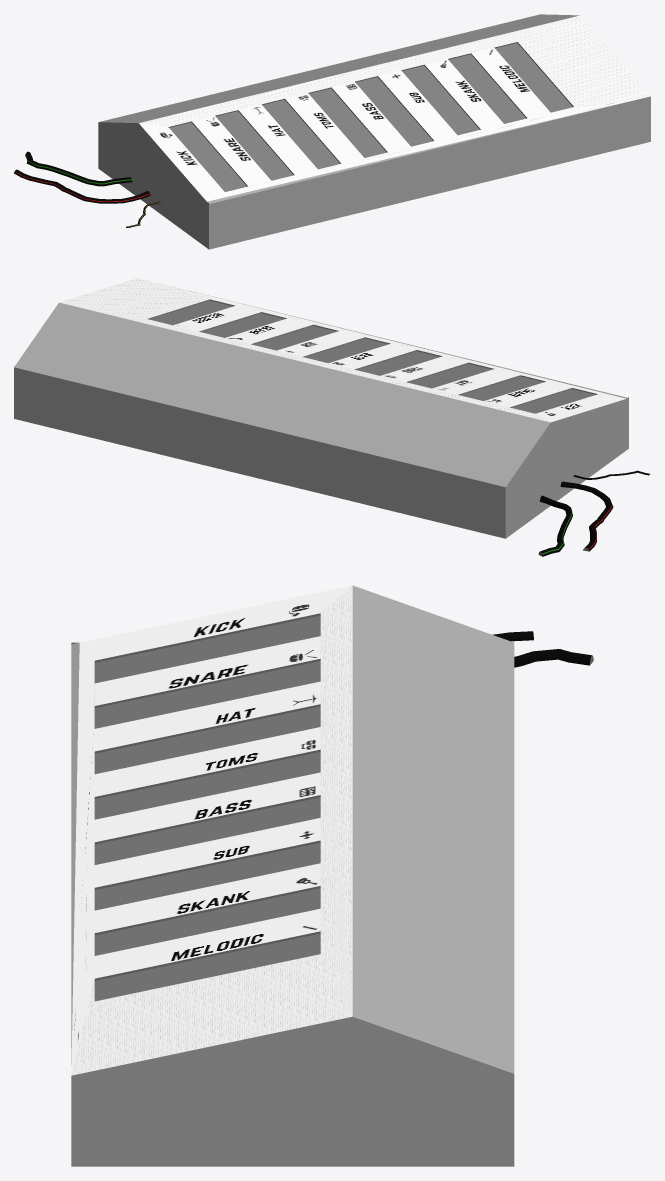
File: mixer.glb
3 views of the same model, one above another, from view 1: azimuth 30°, elevation 25°; view 2: azimuth 150°, elevation 25°; view 3: azimuth 270°, elevation 25° (orthographic). The views are drawn at different scales.
Parts seen in each view (by area): view 1: mixer2; view 2: mixer2; view 3: mixer2.
Boxes of the visible parts, x1,y1,x2,y2 form: mixer2: (14,14,650,249); mixer2: (14,278,650,556); mixer2: (71,585,593,1166).
Bounding box in the file's own units: 132 × 18.09 × 57.15.
7 materials, 1 textured.
